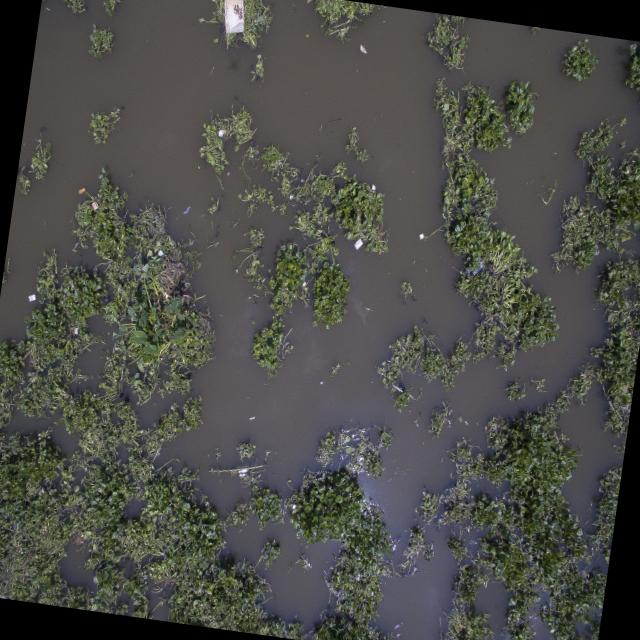Plastic: (218, 0, 251, 36), (356, 42, 370, 56), (353, 236, 363, 252), (182, 205, 192, 216), (28, 292, 36, 304), (418, 231, 425, 243), (90, 200, 98, 210)
